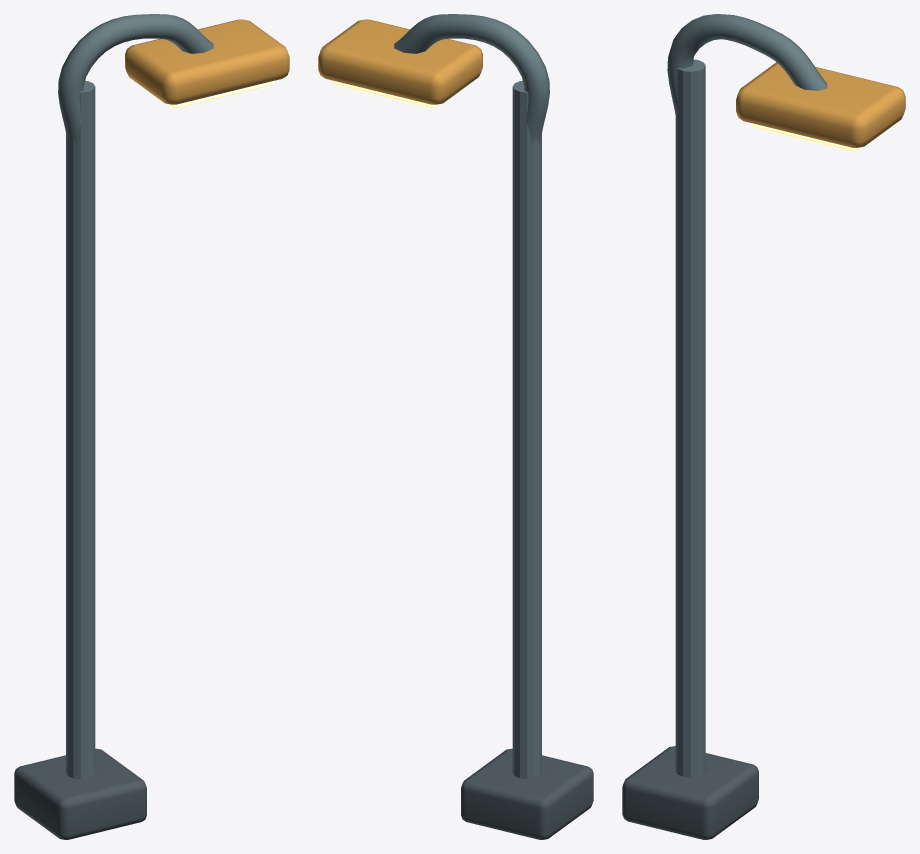
The model's file is SM_RainLamp.glb.
3 renders of one model, left to right at view 1: azimuth 30°, elevation 25°; view 2: azimuth 150°, elevation 25°; view 3: azimuth 330°, elevation 25°, orthographic. The views are drawn at different scales.
Visible parts, largest first — view 1: SM_RainLamp; view 2: SM_RainLamp; view 3: SM_RainLamp.
Boxes of the visible parts, box(x1,y1,x2,y2) form: SM_RainLamp: box(14, 14, 289, 839); SM_RainLamp: box(318, 14, 593, 839); SM_RainLamp: box(622, 14, 905, 839).
Bounding box in the file's own units: 1.85 × 5.94 × 0.6998.
